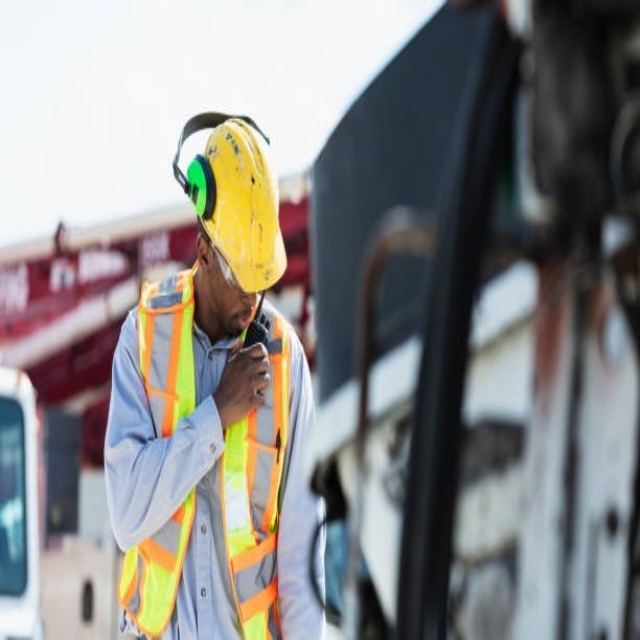Gafas: (207, 241, 255, 303)
Sin_guantes: (217, 340, 274, 427)
Sin_mascara: (225, 309, 253, 337)
